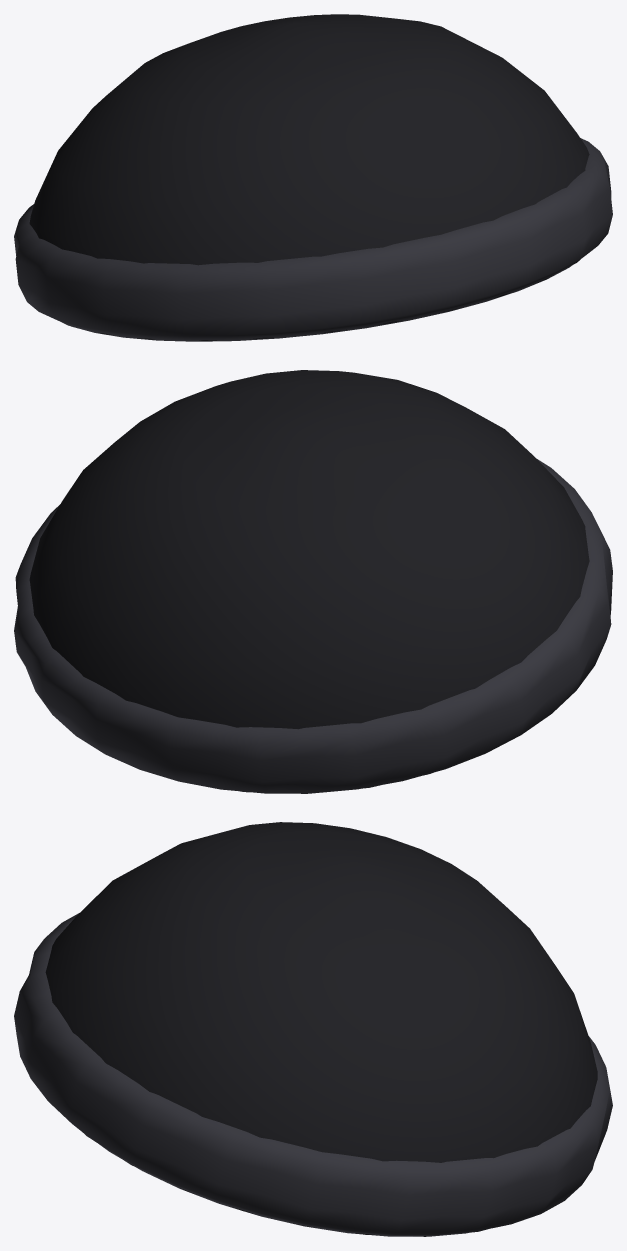
The model's file is acc_beanie.glb.
3 views of the same model, one above another, from view 1: azimuth 30°, elevation 25°; view 2: azimuth 150°, elevation 25°; view 3: azimuth 270°, elevation 25° (orthographic). The views are drawn at different scales.
Parts seen in each view (by area): view 1: Acc_Beanie; view 2: Acc_Beanie; view 3: Acc_Beanie.
Part boxes in pixels (x1,y1,x2,y2): Acc_Beanie: (14,14,612,341); Acc_Beanie: (14,370,612,793); Acc_Beanie: (14,822,612,1236).
Size of the model in its own units: 0.7384 by 0.3654 by 0.687.
Materials: 1 (1 with a texture image).
